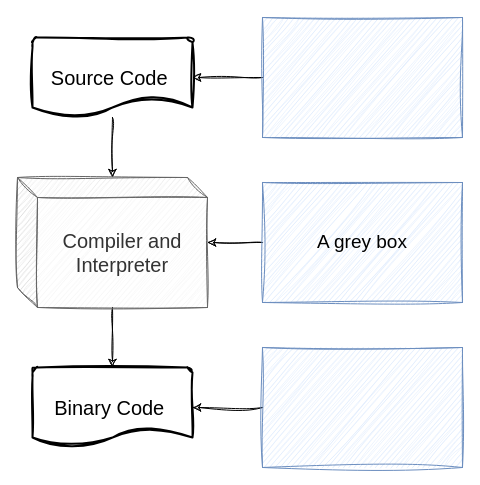
Image size: 480x485. Some labels were removed from this diagram. Each missing label, with the centre of its shape:
"Executable that should do what we intend it to do" goes at point (362, 407).
"What we intend it to do, in the form of a series of code" goes at point (362, 77).
